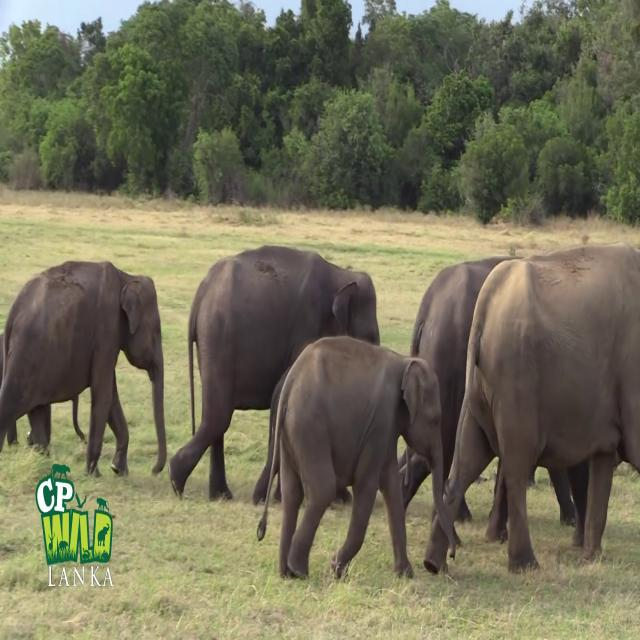Elephant: (424, 242, 639, 576), (168, 243, 380, 505), (254, 334, 461, 582), (0, 259, 167, 478)
